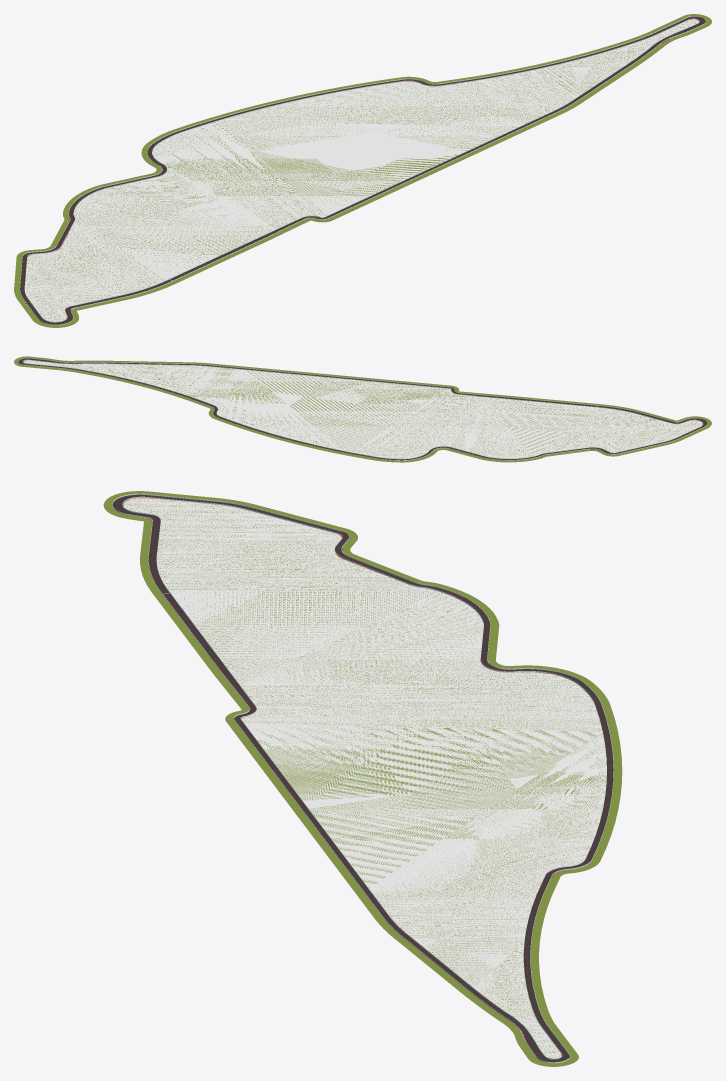
File: Montreal.glb
3 views of the same model, one above another, from view 1: azimuth 30°, elevation 25°; view 2: azimuth 150°, elevation 25°; view 3: azimuth 270°, elevation 25° (orthographic). The views are drawn at different scales.
Parts seen in each view (by area): view 1: SketchUp.140, SketchUp.294, SketchUp.799, SketchUp.861, SketchUp.867, SketchUp.868; view 2: SketchUp.140, SketchUp.294, SketchUp.799, SketchUp.861, SketchUp.867, SketchUp.868; view 3: SketchUp.140, SketchUp.294, SketchUp.799, SketchUp.861, SketchUp.867, SketchUp.868.
Boxes of the visible parts, <box> form: SketchUp.140: <box>24,19,698,321</box>; SketchUp.294: <box>14,14,711,327</box>; SketchUp.799: <box>20,16,705,324</box>; SketchUp.861: <box>24,18,699,322</box>; SketchUp.867: <box>20,19,705,325</box>; SketchUp.868: <box>20,16,705,315</box>; SketchUp.140: <box>23,360,702,458</box>; SketchUp.294: <box>14,356,711,462</box>; SketchUp.799: <box>18,358,707,460</box>; SketchUp.861: <box>22,359,703,459</box>; SketchUp.867: <box>18,357,707,460</box>; SketchUp.868: <box>18,357,706,422</box>; SketchUp.140: <box>123,498,606,1058</box>; SketchUp.294: <box>103,491,622,1066</box>; SketchUp.799: <box>112,494,613,1062</box>; SketchUp.861: <box>122,496,606,1059</box>; SketchUp.867: <box>112,493,613,1063</box>; SketchUp.868: <box>112,493,613,1055</box>.
Size of the model in its own units: 415 by 0.33 by 158.
14 materials, 3 textured.
